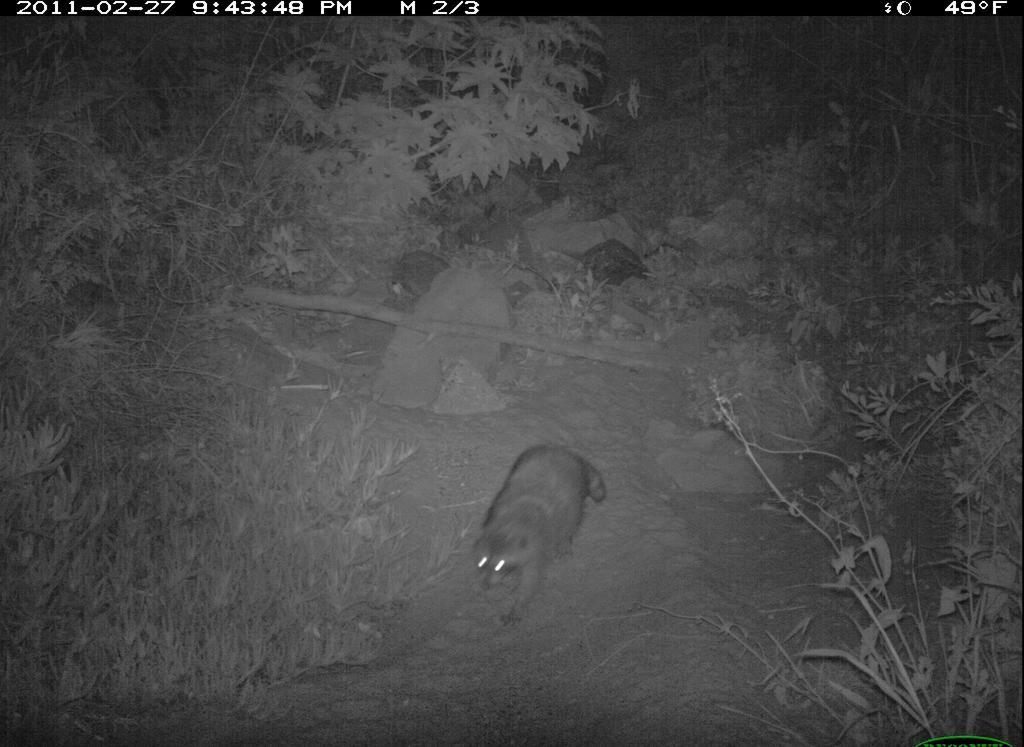raccoon: (464, 442, 614, 639)
